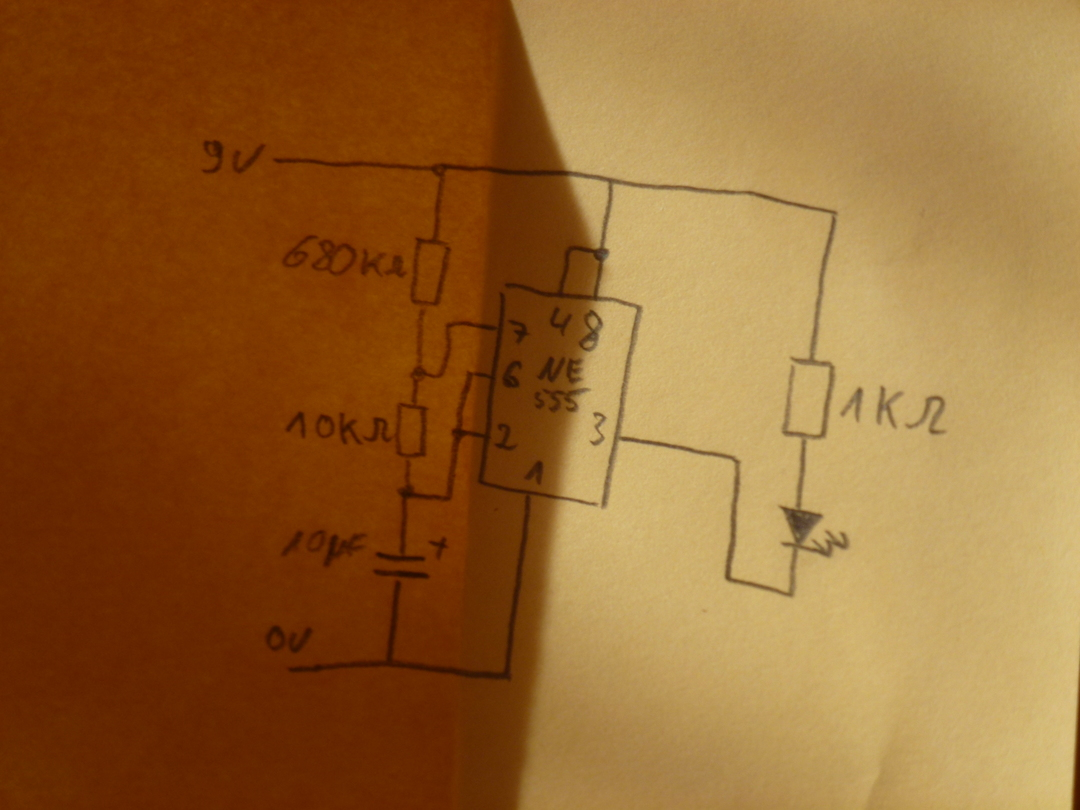capacitor.polarized: (371, 535, 450, 585)
diode.light_emitting: (778, 504, 851, 560)
integrated_cricuit.ne555: (477, 282, 642, 508)
junction: (395, 481, 415, 502), (429, 159, 450, 179), (408, 363, 427, 385), (592, 245, 611, 265), (728, 452, 747, 471), (448, 423, 466, 442), (379, 654, 397, 673), (496, 666, 514, 683), (560, 242, 577, 260), (602, 173, 620, 190), (825, 205, 842, 222), (438, 488, 453, 505), (719, 571, 736, 586), (782, 585, 797, 601), (441, 316, 455, 331), (463, 367, 476, 381), (432, 367, 443, 381)
resistor: (780, 354, 836, 441), (408, 236, 453, 307), (393, 401, 430, 460)
terminal: (283, 662, 301, 679), (269, 154, 283, 167)
text: (281, 232, 408, 280), (838, 383, 950, 437), (284, 408, 394, 447), (279, 527, 369, 570), (532, 355, 592, 414), (199, 137, 268, 176), (262, 623, 316, 657), (577, 307, 604, 353), (547, 305, 573, 338), (587, 411, 610, 448), (493, 422, 520, 453), (500, 359, 526, 390), (506, 317, 531, 346), (522, 458, 546, 488)
